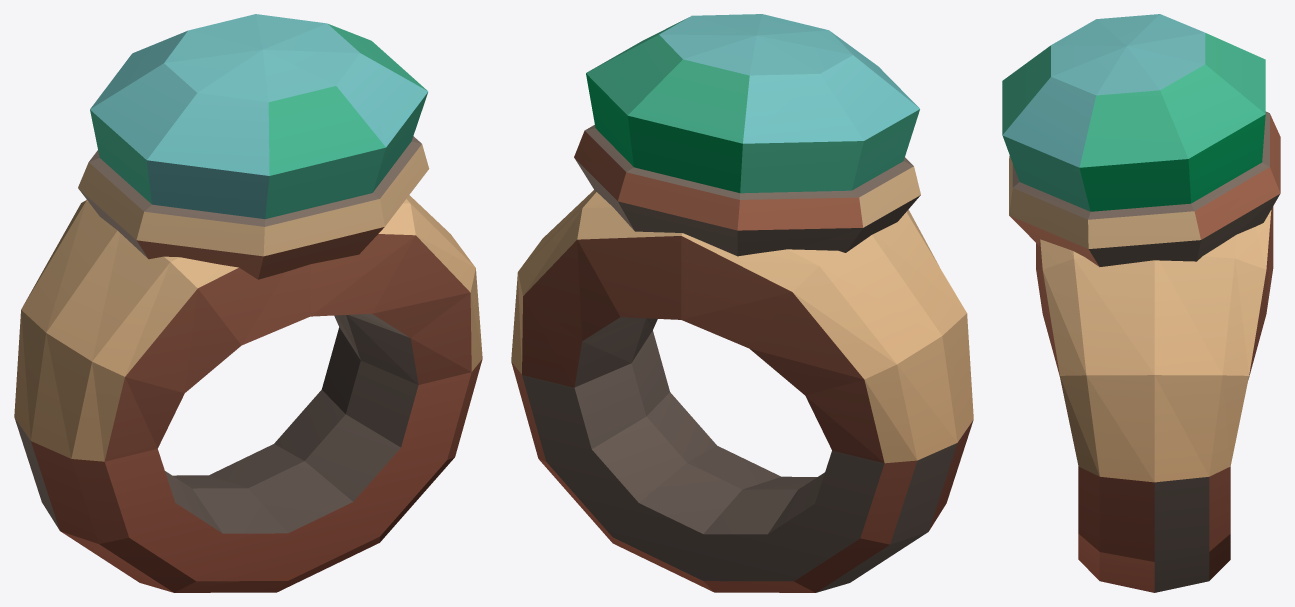
Rendered from source.glb.
3 views of the same model, side by side, from view 1: azimuth 30°, elevation 25°; view 2: azimuth 150°, elevation 25°; view 3: azimuth 270°, elevation 25° (orthographic). The views are drawn at different scales.
Parts seen in each view (by area): view 1: model; view 2: model; view 3: model.
Boxes of the visible parts, box(x1,y1,x2,y2) form: model: box(14, 14, 482, 592); model: box(511, 14, 973, 592); model: box(1002, 14, 1280, 592).
Size of the model in its own units: 0.52 by 0.62 by 0.3.
Materials: 1 (1 with a texture image).
